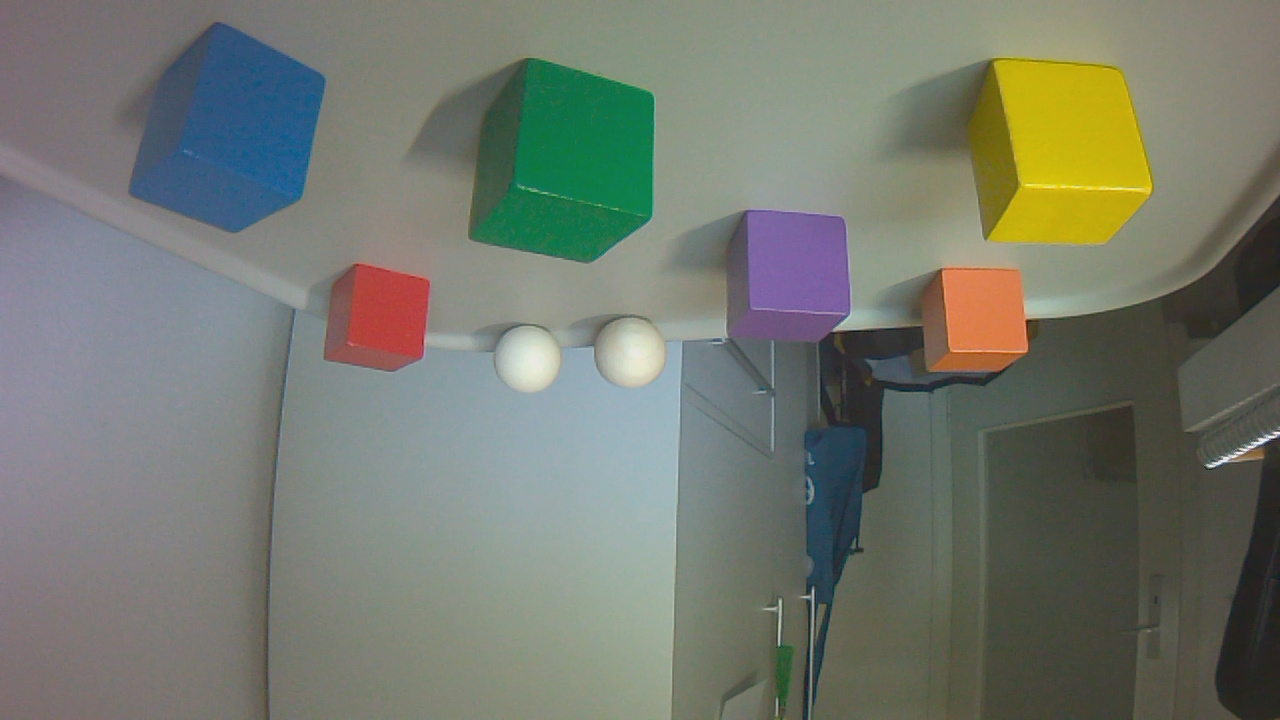ball: (598, 319, 673, 396), (496, 326, 567, 401)
cube_blue: (132, 26, 333, 240)
cube_green: (472, 62, 660, 270)
cube_orange: (924, 271, 1034, 379)
cube_purple: (729, 212, 857, 351)
cube_red: (326, 267, 435, 380)
cube_yellow: (966, 61, 1159, 253)
